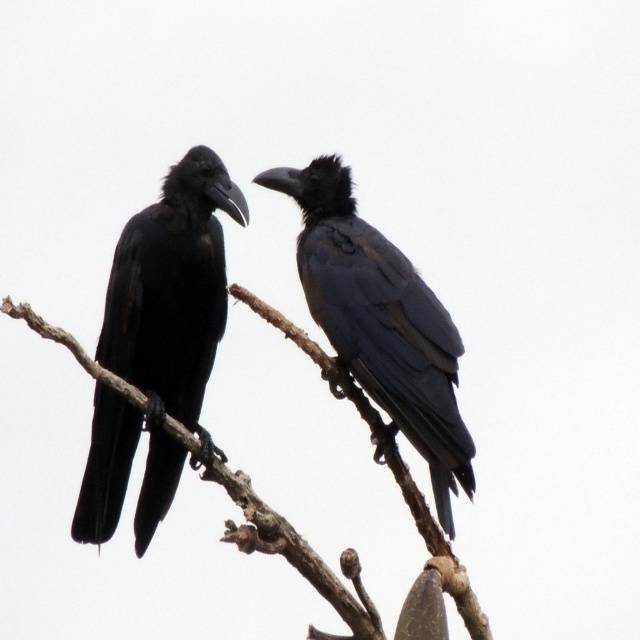Raven: (251, 153, 478, 543), (71, 145, 250, 559)
